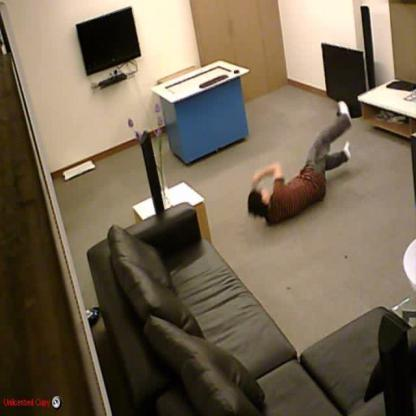Person: (247, 100, 352, 223)
